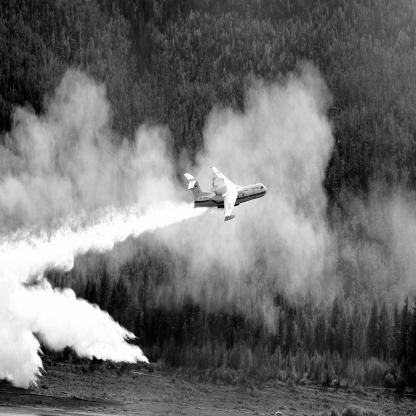Be200: (184, 167, 269, 222)
